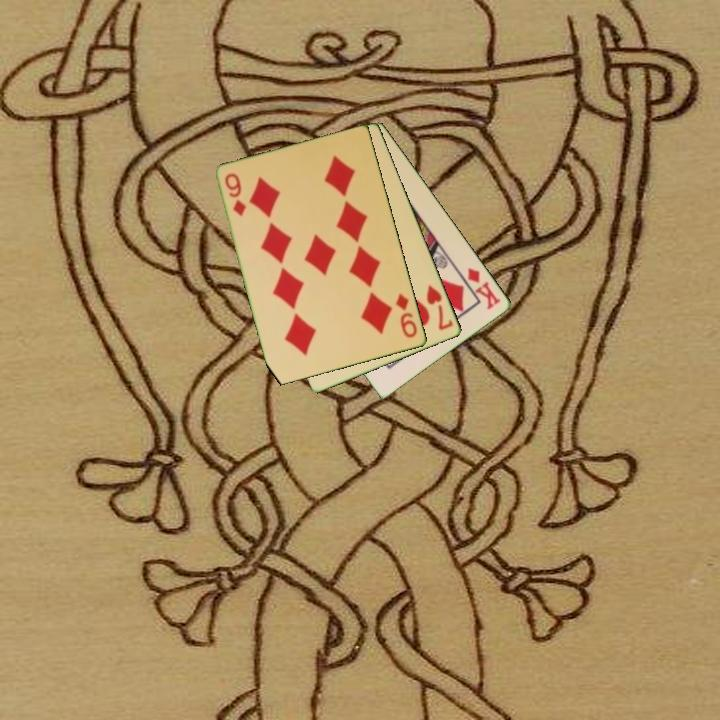7h: (423, 282, 456, 333)
9d: (392, 290, 420, 341), (221, 170, 249, 219)
Kd: (464, 264, 504, 313)
